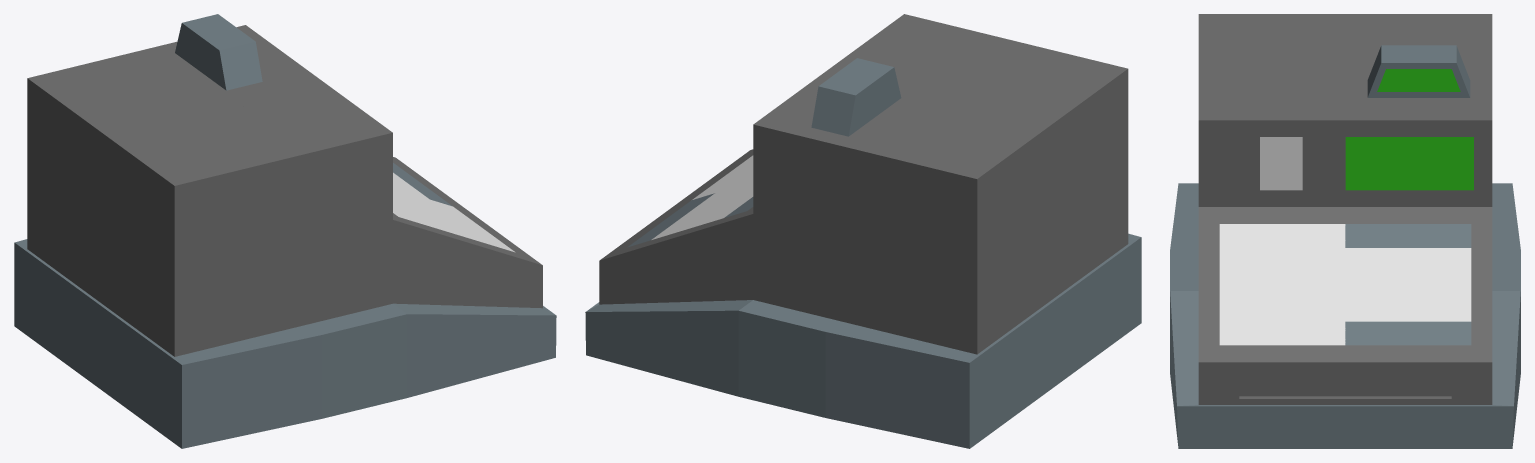
Rendered from cash_machine.fbx.
3 renders of one model, left to right at view 1: azimuth 30°, elevation 25°; view 2: azimuth 150°, elevation 25°; view 3: azimuth 270°, elevation 25°, orthographic. The views are drawn at different scales.
Visible parts, largest first — view 1: cash_machine; view 2: cash_machine; view 3: cash_machine.
Part boxes in pixels (bbox=[...]): cash_machine: bbox=[14, 14, 556, 448]; cash_machine: bbox=[585, 14, 1141, 448]; cash_machine: bbox=[1170, 14, 1520, 448].
Size of the model in its own units: 61.69 by 45.72 by 50.22.
